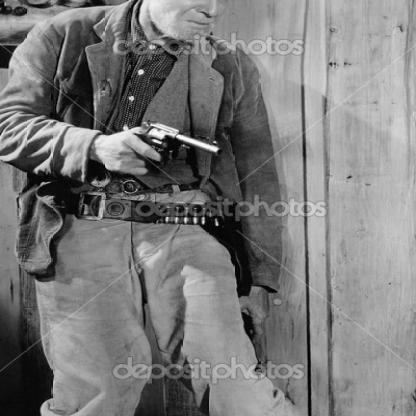gun: (116, 115, 231, 175)
